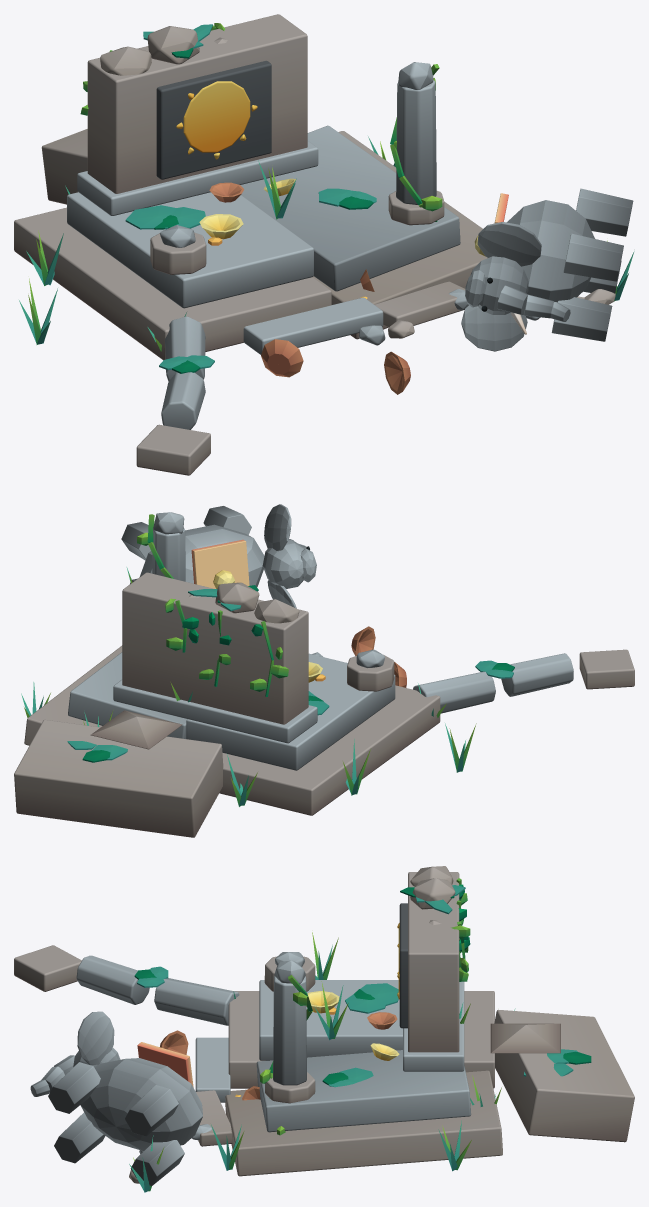
File: shrine_broken.glb
The picture shows the model from 3 angles, top to bottom: view 1: azimuth 30°, elevation 25°; view 2: azimuth 150°, elevation 25°; view 3: azimuth 270°, elevation 25°; orthographic projection. The views are drawn at different scales.
Visible parts, largest first — view 1: shrine_broken; view 2: shrine_broken; view 3: shrine_broken.
Boxes of the visible parts, x1,y1,x2,y2 form: shrine_broken: (14, 14, 634, 475); shrine_broken: (14, 504, 634, 837); shrine_broken: (14, 866, 634, 1192).
Bounding box in the file's own units: 5.43 × 2.29 × 6.06.
Materials: 1 (1 with a texture image).
